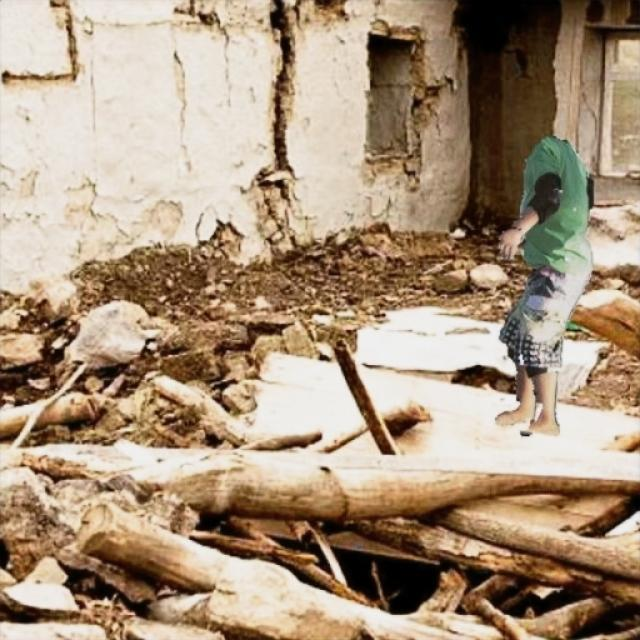Person in Rubble: (495, 136, 593, 435)
